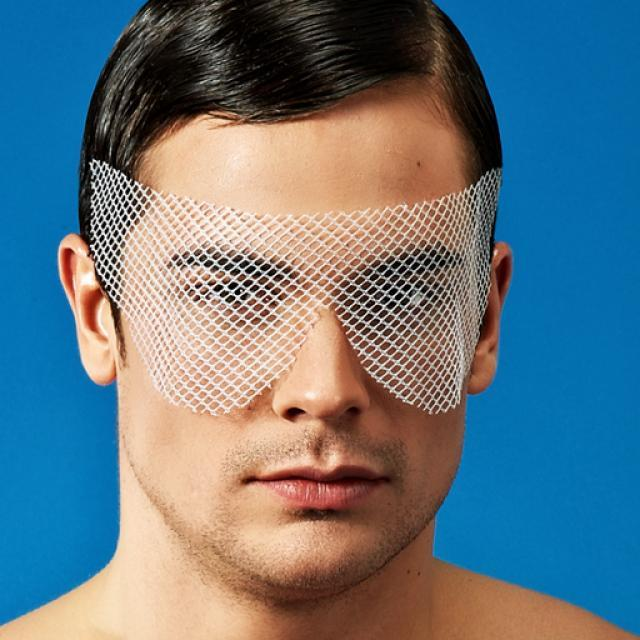neutral: (122, 93, 474, 588)
